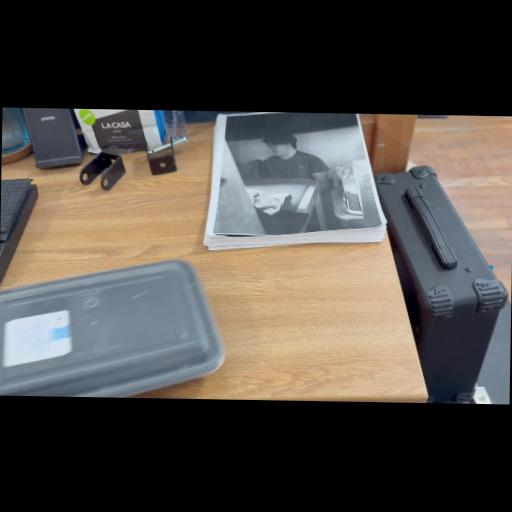rigid_plastic_container: (0, 256, 223, 398)
